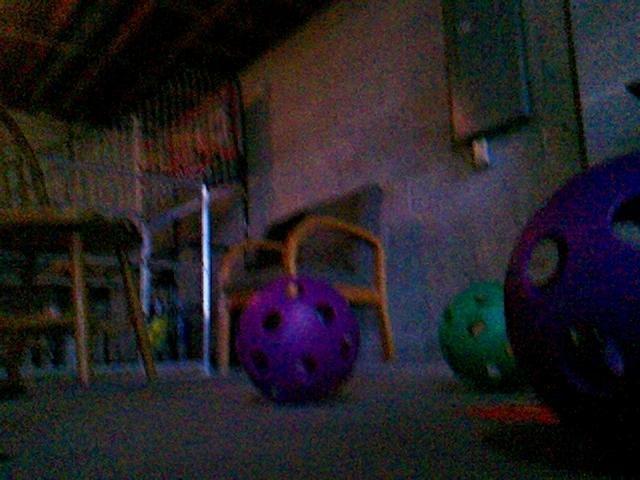Green: (436, 280, 520, 389)
Purple: (503, 150, 640, 456), (233, 277, 360, 404)
